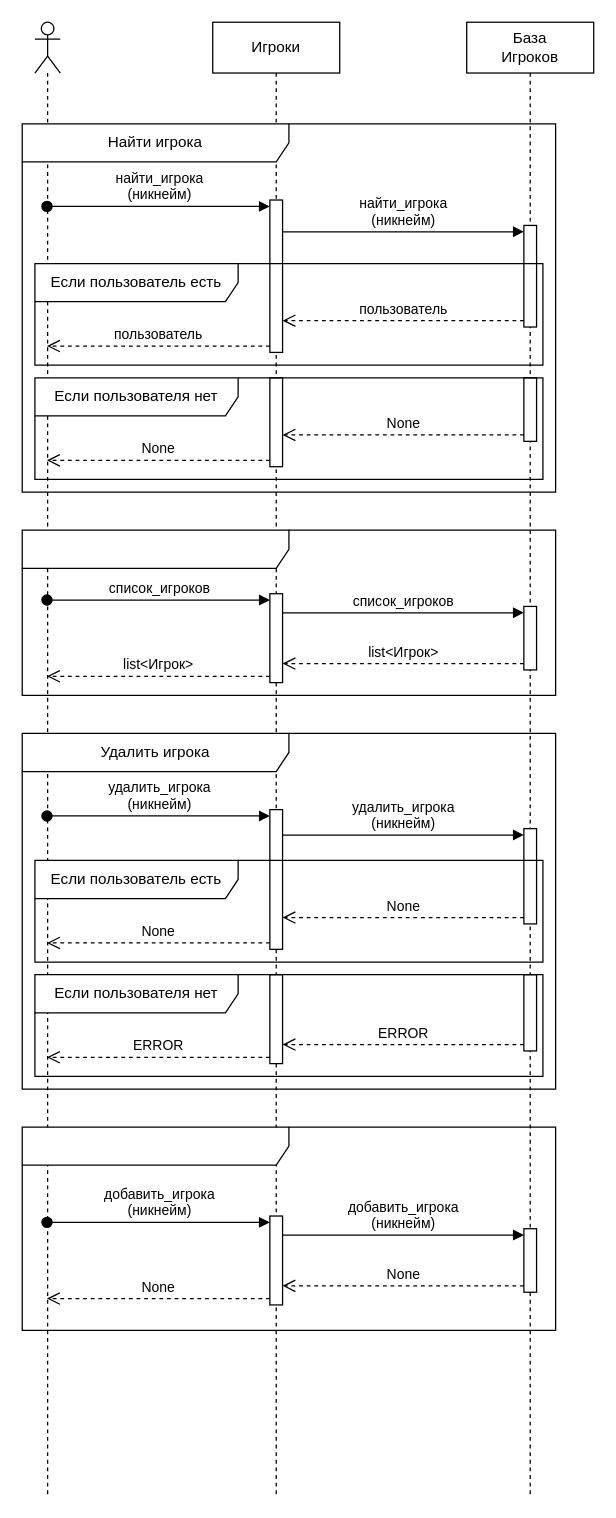
The diagram is 616 pixels wide and 1518 high, and some of its shapes have lost their labels. Each missing label, with the centre of its shape:
Добавить игрока: point (288, 1228)
Список игроков: point (288, 612)
